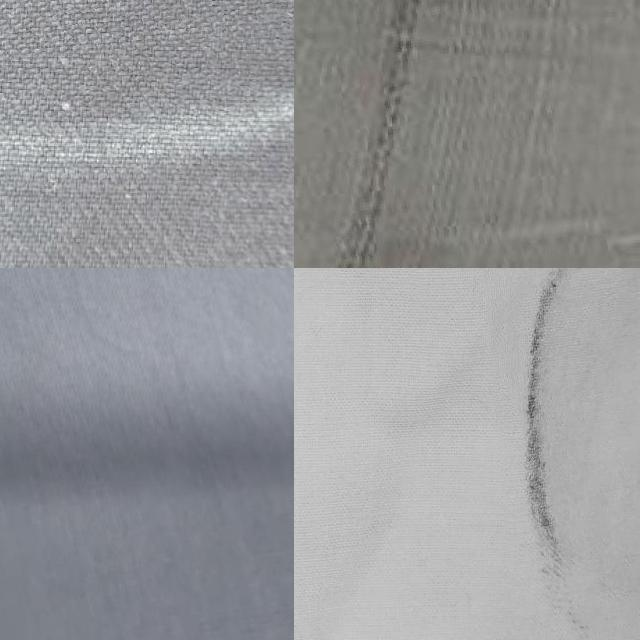Hole: (488, 268, 640, 640)
Thread_other: (294, 0, 595, 268)
seam: (274, 268, 294, 327)
